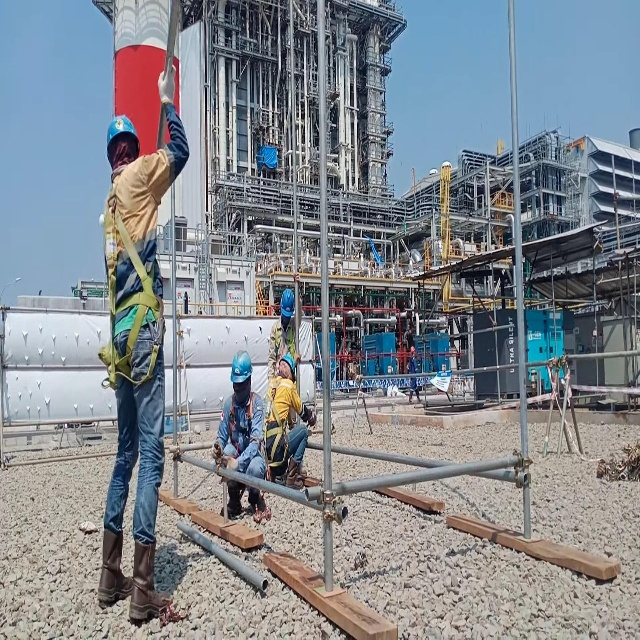Arnes_seguridad: (96, 166, 168, 395), (226, 392, 267, 482), (263, 372, 290, 477)
